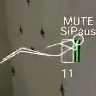hacks_1: (1, 16, 95, 79)
